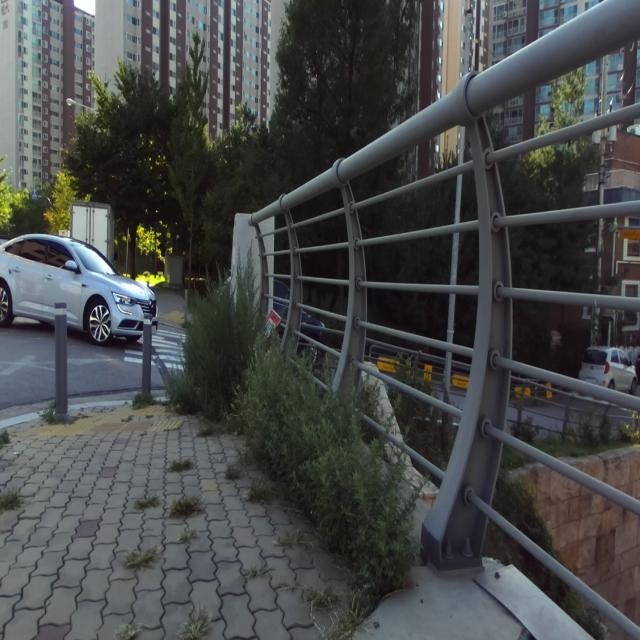횡단보도: (124, 329, 189, 370)
